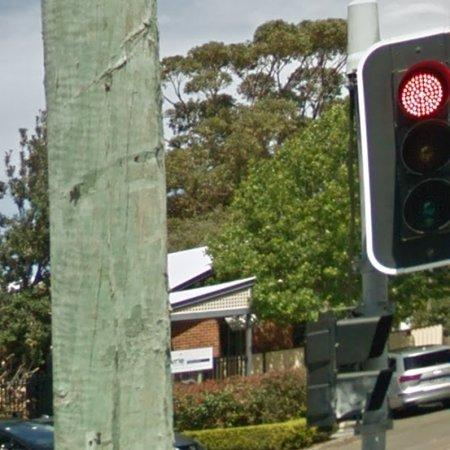traffic lights: (359, 32, 450, 275)
